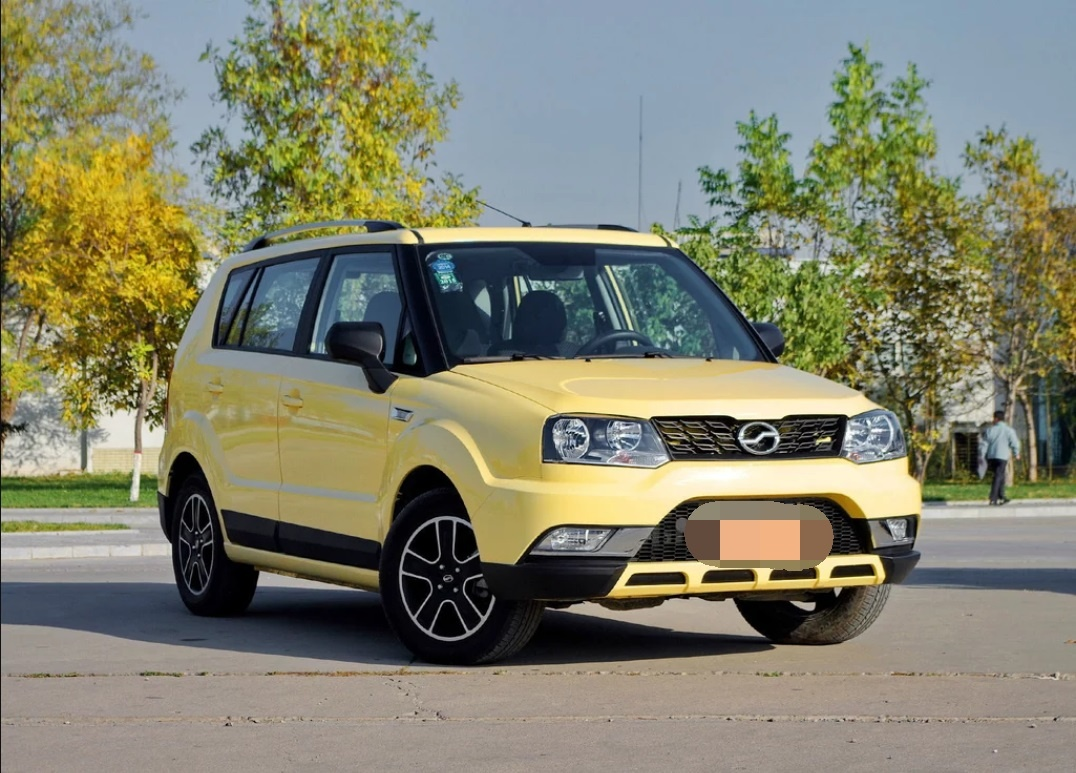SUV: (140, 203, 934, 654)
